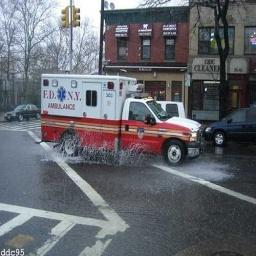Ambulance: (41, 74, 200, 164)
